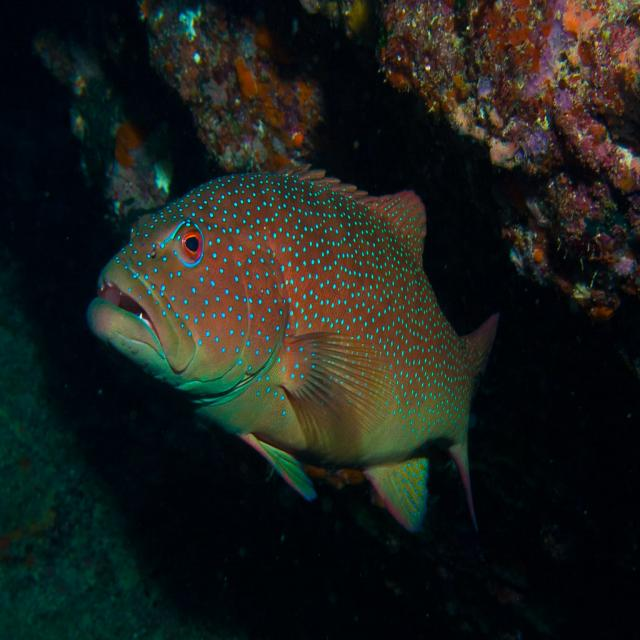Leopard coral grouper: (78, 134, 530, 535)
